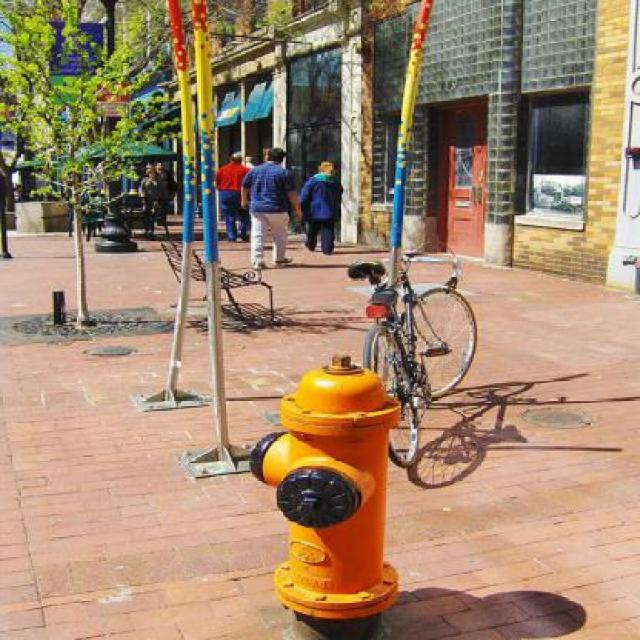Person: (235, 147, 303, 268), (296, 159, 336, 252), (212, 153, 248, 244), (136, 167, 164, 236), (153, 161, 173, 221)
